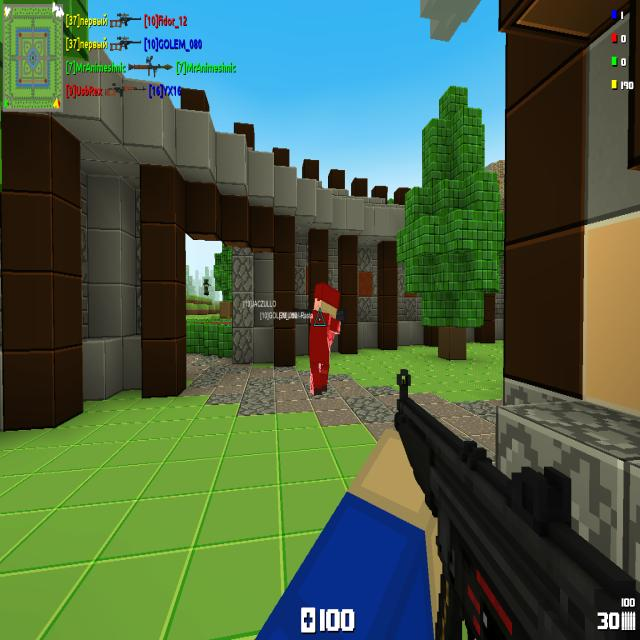enemy: (203, 279, 210, 296)
